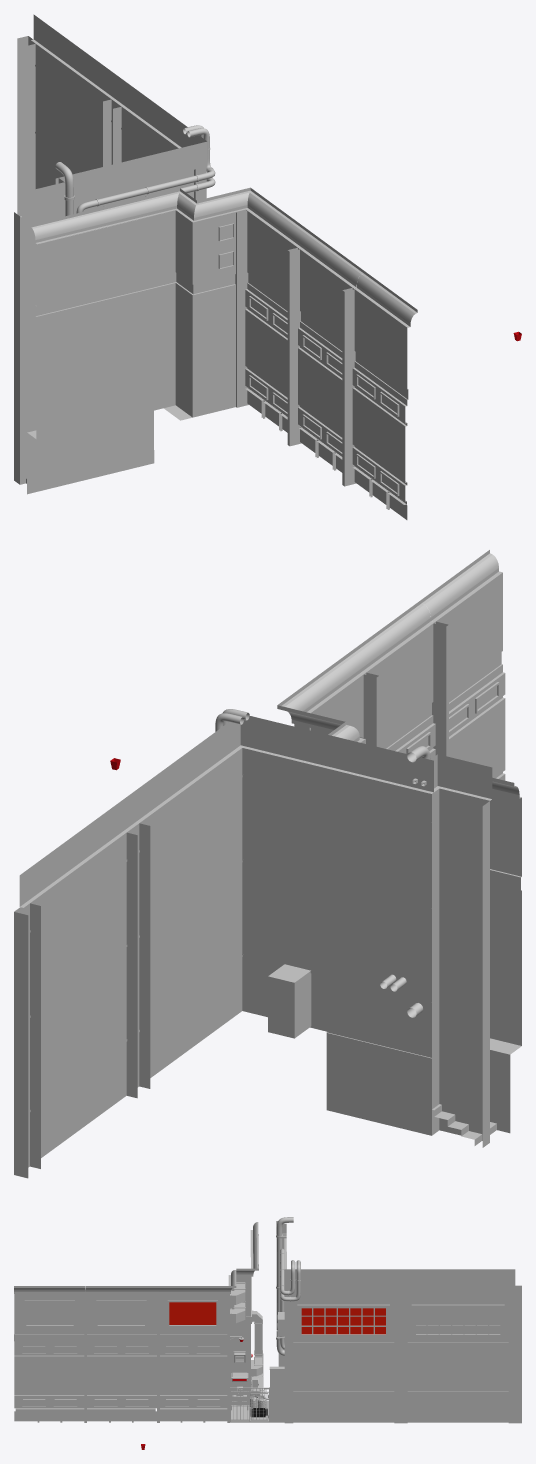
File: alley_import_9_27_20.fbx
The picture shows the model from 3 angles, top to bottom: view 1: azimuth 30°, elevation 25°; view 2: azimuth 150°, elevation 25°; view 3: azimuth 270°, elevation 25°; orthographic projection. The views are drawn at different scales.
Visible parts, largest first — view 1: pause_alley_buildingL_set01, pause_alley_buildingL_set02.002, pause_alley_buildingL_set02.001, pause_alley_buildingL_set02, pause_alley_buildingR_set02_wall.001, pause_alley_W&F_stairs, pause_alley_buildingL_set03_roofA, pause_alley_buildingR_set03_pillarC, pause_alley_buildingR_set03_pillarB.001, pause_alley_buildingL_set03_pillarB, pause_alley_buildingL_set03_pillarB.001, pause_alley_buildingL_set03_pillarA (+13 smaller); view 2: pause_alley_buildingR_set01, pause_alley_buildingR_set02_wall, pause_alley_buildingR_set02_wall.001, pause_alley_buildingR_set03_pillarC, pause_alley_buildingL_set02.002, pause_alley_buildingR_set03_bot, pause_alley_buildingL_set01, pause_alley_buildingR_set03_pillarB.001, pause_alley_buildingR_set03_pillarB, pause_alley_buildingL_set02.001, pause_alley_buildingL_set03_roofA, pause_alley_buildingR_set03_rooffA (+12 smaller); view 3: pause_alley_buildingR_set02_wall.001, pause_alley_buildingR_set02_wall, pause_alley_buildingL_set02.002, pause_alley_buildingL_set02.001, pause_alley_buildingL_set02, pause_glass_alley&street_buildingR, pause_alley_buildingR_set03_pillarB.001, pause_alley_buildingR_set03_pillarB, pause_alley_buildingL_set01, pause_alley_buildingR_set03_pillarA, pause_alley_buildingL_set03_roofA, pause_glass_alley&street_buildingL (+32 smaller).
Part boxes in pixels (left/top/right/bottom): pause_alley_buildingL_set01: left=35, top=209, right=246, bottom=439; pause_alley_buildingL_set02.002: left=352, top=289, right=408, bottom=519; pause_alley_buildingL_set02.001: left=298, top=249, right=353, bottom=472; pause_alley_buildingL_set02: left=245, top=210, right=299, bottom=432; pause_alley_buildingR_set02_wall.001: left=30, top=40, right=116, bottom=188; pause_alley_W&F_stairs: left=27, top=410, right=154, bottom=494; pause_alley_buildingL_set03_roofA: left=31, top=187, right=310, bottom=248; pause_alley_buildingR_set03_pillarC: left=14, top=208, right=59, bottom=484; pause_alley_buildingR_set03_pillarB.001: left=17, top=36, right=35, bottom=216; pause_alley_buildingL_set03_pillarB: left=287, top=247, right=301, bottom=446; pause_alley_buildingL_set03_pillarB.001: left=342, top=288, right=356, bottom=486; pause_alley_buildingL_set03_pillarA: left=235, top=211, right=248, bottom=407; pause_alley_buildingR_set01: left=242, top=748, right=431, bottom=1057; pause_alley_buildingR_set02_wall: left=133, top=748, right=242, bottom=1087; pause_alley_buildingR_set02_wall.001: left=23, top=828, right=132, bottom=1167; pause_alley_buildingR_set03_pillarC: left=432, top=788, right=489, bottom=1147; pause_alley_buildingL_set02.002: left=434, top=572, right=505, bottom=780; pause_alley_buildingR_set03_bot: left=326, top=1032, right=431, bottom=1135; pause_alley_buildingL_set01: left=311, top=728, right=521, bottom=1045; pause_alley_buildingR_set03_pillarB.001: left=14, top=903, right=40, bottom=1178; pause_alley_buildingR_set03_pillarB: left=126, top=823, right=150, bottom=1098; pause_alley_buildingL_set02.001: left=366, top=623, right=435, bottom=758; pause_alley_buildingL_set03_roofA: left=277, top=650, right=521, bottom=798; pause_alley_buildingR_set03_rooffA: left=242, top=716, right=339, bottom=770; pause_alley_buildingR_set02_wall.001: left=407, top=1286, right=508, bottom=1422; pause_alley_buildingR_set02_wall: left=293, top=1286, right=394, bottom=1422; pause_alley_buildingL_set02.002: left=14, top=1293, right=85, bottom=1422; pause_alley_buildingL_set02.001: left=87, top=1294, right=156, bottom=1422; pause_alley_buildingL_set02: left=160, top=1294, right=227, bottom=1422; pause_glass_alley&street_buildingR: left=301, top=1308, right=385, bottom=1334; pause_alley_buildingR_set03_pillarB.001: left=508, top=1285, right=521, bottom=1423; pause_alley_buildingR_set03_pillarB: left=394, top=1286, right=407, bottom=1423; pause_alley_buildingL_set01: left=229, top=1275, right=251, bottom=1404; pause_alley_buildingR_set03_pillarA: left=284, top=1286, right=293, bottom=1423; pause_alley_buildingL_set03_roofA: left=157, top=1222, right=258, bottom=1293; pause_glass_alley&street_buildingL: left=169, top=1302, right=216, bottom=1324.
Size of the model in its own units: 21.66 by 15.54 by 35.53.
